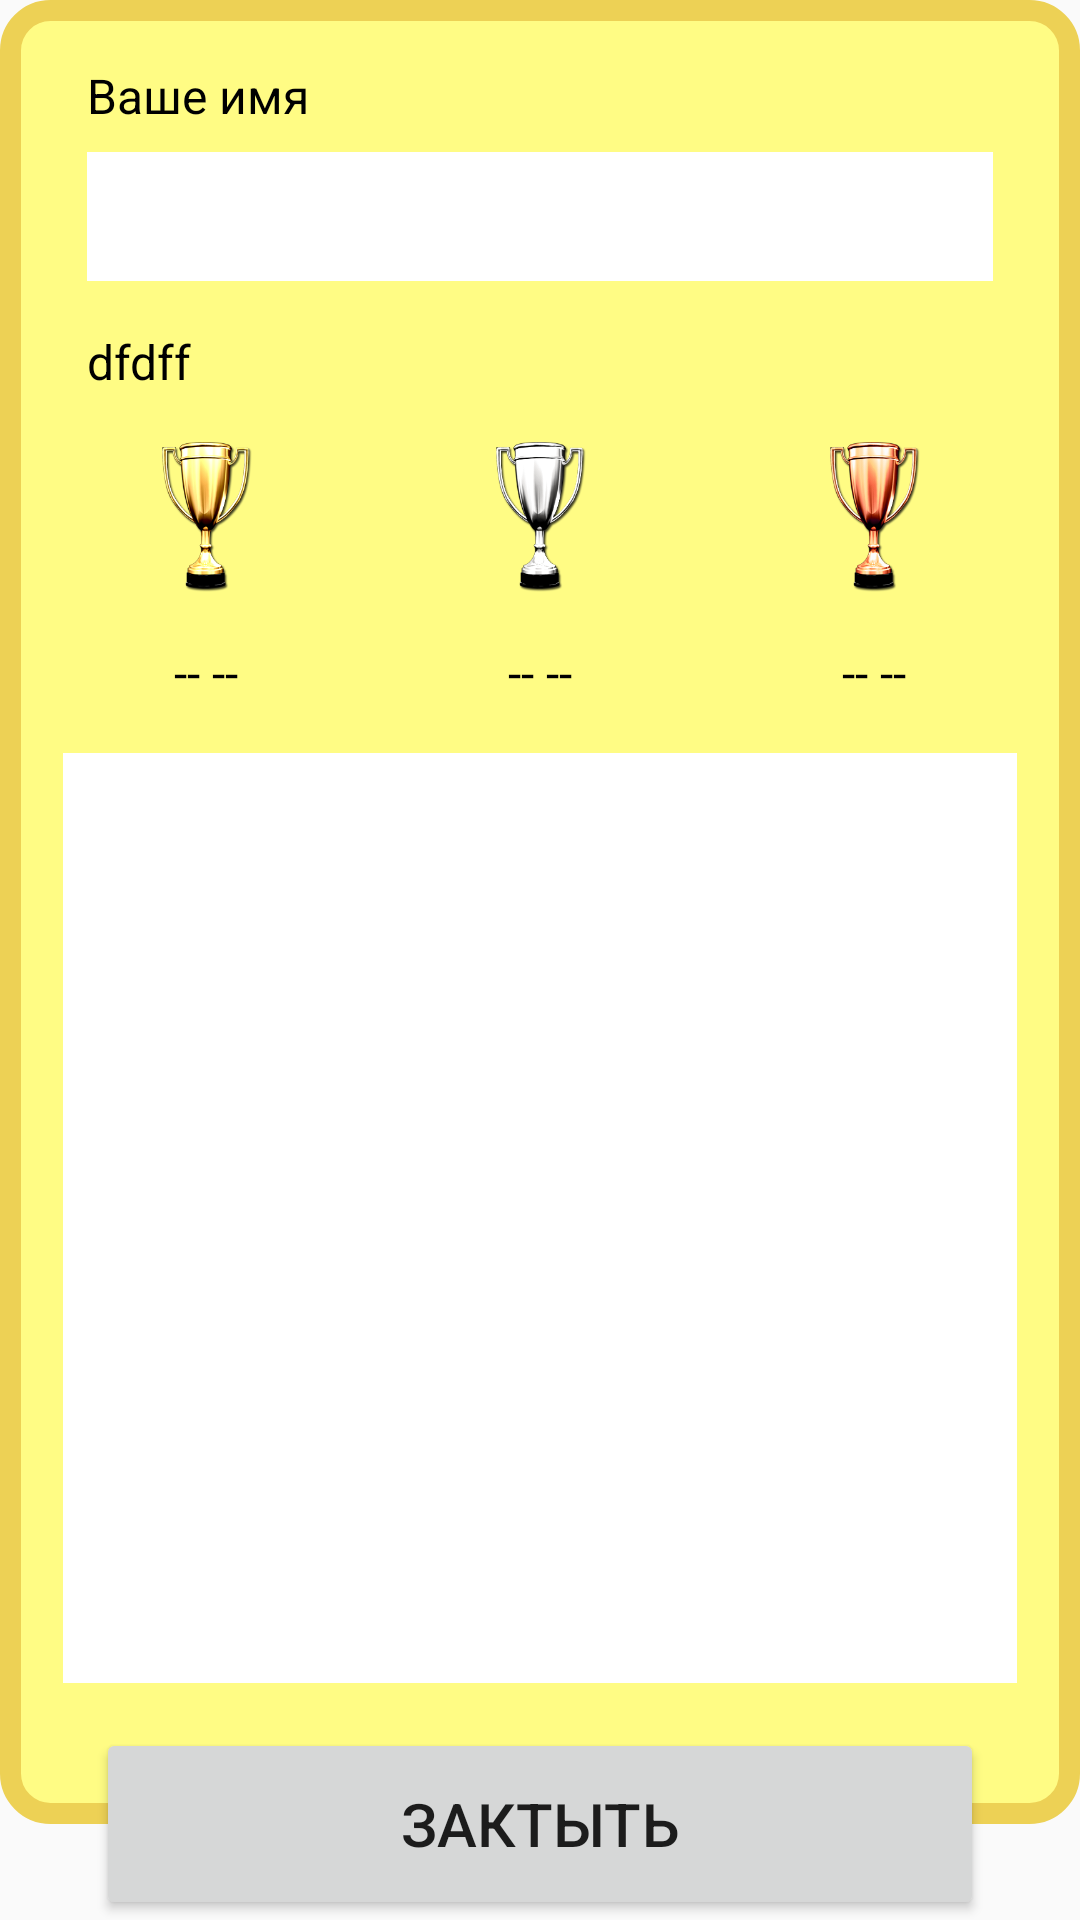

Icons on this 1080w x 1920h Android screen, each with the point to tap as point (x, y):
kubok: point (206, 516), point (540, 516), point (874, 516)
